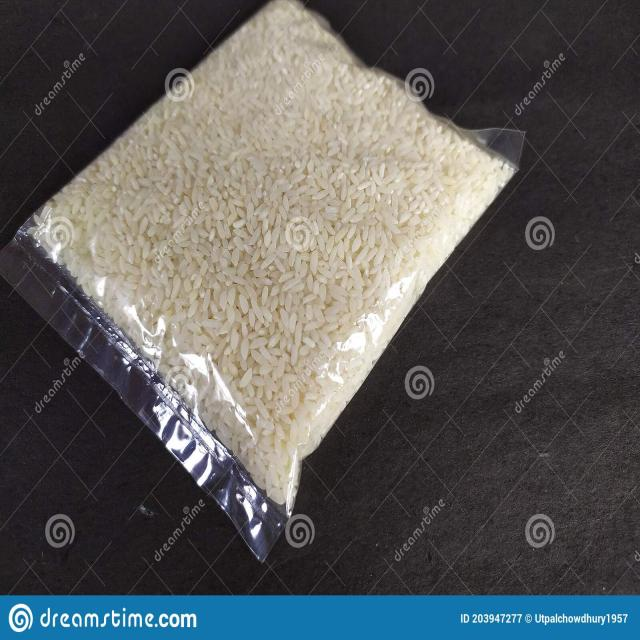Paquete: (2, 0, 524, 561)
